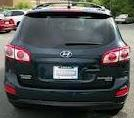back_view: (6, 42, 130, 113)
backlight: (98, 43, 130, 67)
